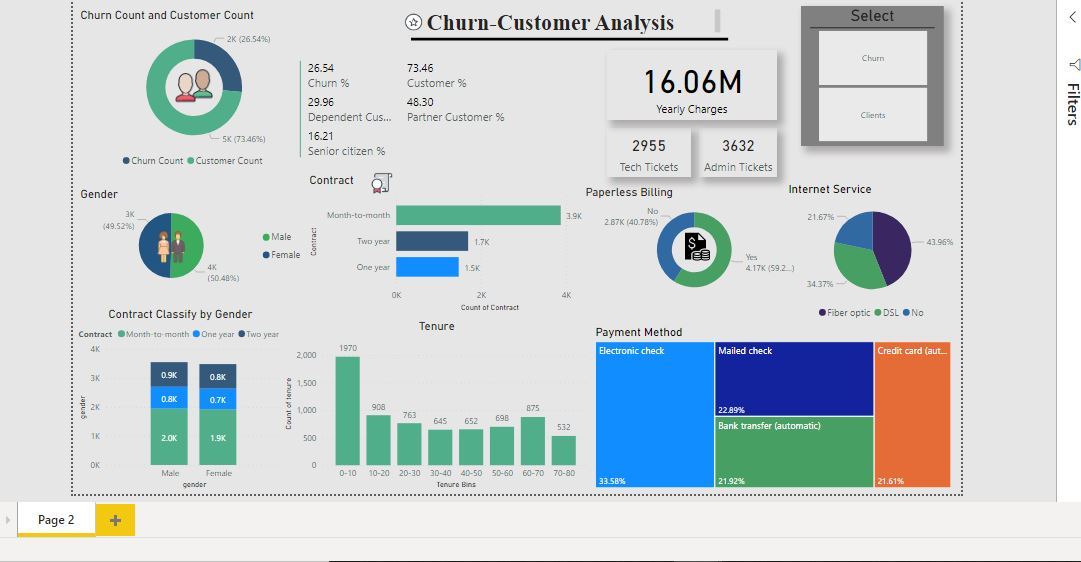

The page's visual inventory and layout, read from the dashboard file:
{"tool":"powerbi","page":{"name":"Page 2","canvas":[1280,720],"ordinal":0},"visuals":[{"type":"donutChart","fields":{"Y":["01 Churn-Dataset.Churn Count","01 Churn-Dataset.Customer Count"]},"box":[5.8,18.5,337.5,239.3],"z":0},{"type":"pieChart","title":"Internet Service","fields":{"Category":["01 Churn-Dataset.InternetService"],"Y":["CountNonNull(01 Churn-Dataset.InternetService)"]},"box":[1027.1,269.4,252.9,207.2],"z":1000},{"type":"treemap","title":"Payment Method","fields":{"Group":["01 Churn-Dataset.PaymentMethod"],"Values":["Divide(CountNonNull(01 Churn-Dataset.PaymentMethod), ScopedEval(CountNonNull(01 Churn-Dataset.PaymentMethod), []))"]},"box":[748.9,476.6,523.3,240.2],"z":2000},{"type":"columnChart","title":"Contract Classify by Gender","fields":{"Category":["01 Churn-Dataset.gender"],"Series":["01 Churn-Dataset.Contract"],"Y":["CountNonNull(01 Churn-Dataset.gender)"]},"box":[2.9,450.3,304.4,266.5],"z":3000},{"type":"clusteredColumnChart","title":"Tenure","fields":{"Category":["01 Churn-Dataset.Tenure Bins"],"Y":["CountNonNull(01 Churn-Dataset.tenure)"]},"box":[299.6,466.9,449.4,250],"z":4000},{"type":"multiRowCard","fields":{"Values":["01 Churn-Dataset.Churn %","01 Churn-Dataset.Customer %","01 Churn-Dataset.Dependent Customer %","01 Churn-Dataset.Partner Customer %","01 Churn-Dataset.Senior citizen %"]},"box":[321.7,89.6,308.4,167.9],"z":5000},{"type":"slicer","title":"Select","fields":{"Values":["01 Churn-Dataset (2).Name of the column"]},"box":[1050.5,16.5,206.2,202.3],"z":6000},{"type":"pieChart","title":"Gender","fields":{"Y":["01 Churn-Dataset.Male","01 Churn-Dataset.Female"]},"box":[6,277,337,150],"z":7000},{"type":"clusteredBarChart","title":"Contract","fields":{"Category":["01 Churn-Dataset.Contract"],"Y":["CountNonNull(01 Churn-Dataset.Contract)"]},"box":[335.6,257.5,412.8,204.2],"z":8000},{"type":"image","box":[135.2,78.8,77.8,101.2],"z":9000},{"type":"image","box":[426,247.1,39.9,49.6],"z":10000},{"type":"textbox","box":[504.8,16.5,433.8,44.7],"z":11000},{"type":"image","box":[110.9,332.6,58.4,59.3],"z":12000},{"type":"card","fields":{"Values":["Sum(01 Churn-Dataset.TotalCharges)"]},"box":[770.6,79.2,245.2,100.9],"z":13000},{"type":"shape","box":[488.3,49.6,458.1,29.2],"z":14000},{"type":"image","box":[446.4,21.4,91.4,35],"z":15000},{"type":"card","fields":{"Values":["Sum(01 Churn-Dataset.numTechTickets)"]},"box":[770.6,191.5,120.7,70.7],"z":16000},{"type":"card","fields":{"Values":["Sum(01 Churn-Dataset.numAdminTickets)"]},"box":[902.7,191.5,113.2,70.7],"z":17000},{"type":"donutChart","title":"Paperless Billing","fields":{"Category":["01 Churn-Dataset.PaperlessBilling"],"Y":["CountNonNull(01 Churn-Dataset.PaperlessBilling)"]},"box":[734.8,273.5,324.5,167.9],"z":18000},{"type":"image","box":[869.7,335.8,54.7,51.9],"z":19000}]}

Visuals, with their boxes on the page's 1280x720 design canvas (x1, y1, x2, y2). These are canvas units, not pixel positions in the 1081x562 screenshot, which may show the page scaled, cropped or inside an application window:
donutChart - 01 Churn-Dataset.Churn Count x 01 Churn-Dataset.Customer Count: rect(6, 18, 343, 258)
"Internet Service" pieChart: rect(1027, 269, 1280, 477)
"Payment Method" treemap: rect(749, 477, 1272, 717)
"Contract Classify by Gender" columnChart: rect(3, 450, 307, 717)
"Tenure" clusteredColumnChart: rect(300, 467, 749, 717)
multiRowCard - 01 Churn-Dataset.Churn % x 01 Churn-Dataset.Customer %: rect(322, 90, 630, 258)
"Select" slicer: rect(1050, 16, 1257, 219)
"Gender" pieChart: rect(6, 277, 343, 427)
"Contract" clusteredBarChart: rect(336, 258, 748, 462)
image: rect(135, 79, 213, 180)
image: rect(426, 247, 466, 297)
textbox: rect(505, 16, 939, 61)
image: rect(111, 333, 169, 392)
card - Sum(01 Churn-Dataset.TotalCharges): rect(771, 79, 1016, 180)
shape: rect(488, 50, 946, 79)
image: rect(446, 21, 538, 56)
card - Sum(01 Churn-Dataset.numTechTickets): rect(771, 192, 891, 262)
card - Sum(01 Churn-Dataset.numAdminTickets): rect(903, 192, 1016, 262)
"Paperless Billing" donutChart: rect(735, 274, 1059, 441)
image: rect(870, 336, 924, 388)
